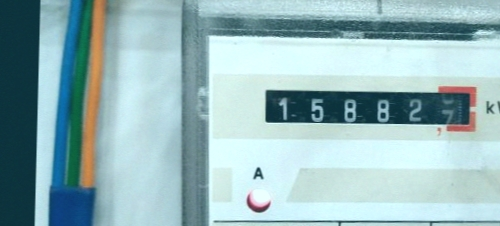1: (275, 89, 289, 118)
2: (406, 92, 422, 120)
5: (307, 91, 325, 119)
7: (438, 103, 454, 120)
8: (340, 92, 356, 121), (374, 92, 389, 120)
screen: (249, 69, 486, 137)
